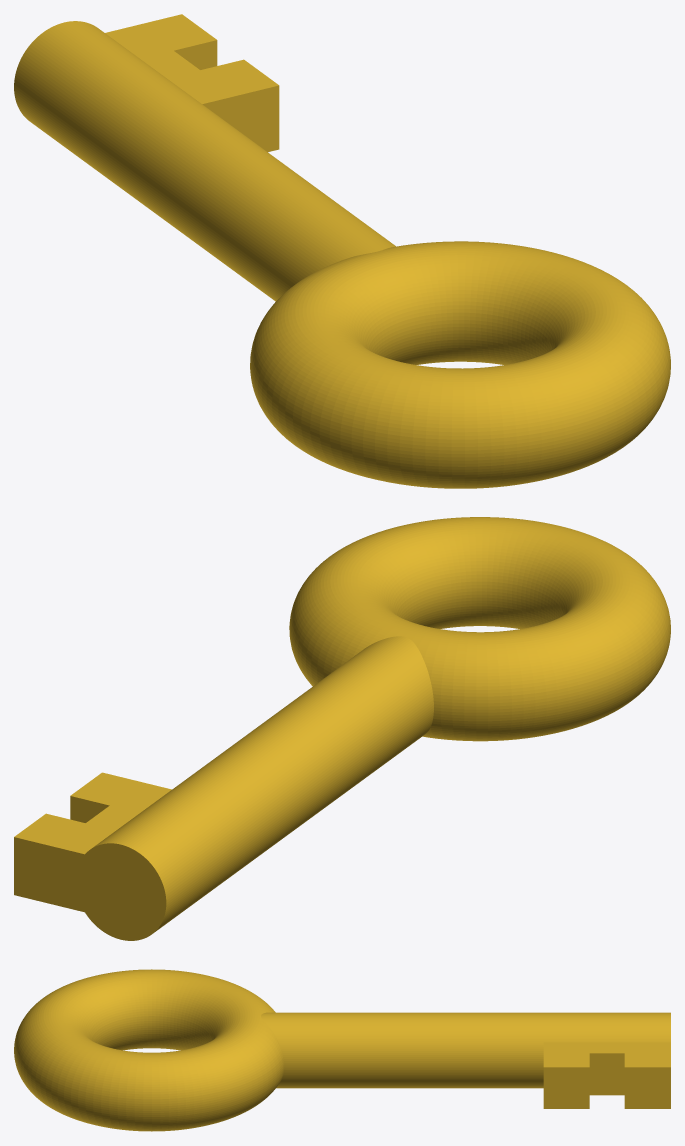
The model's file is gold_key.obj.
3 views of the same model, one above another, from view 1: azimuth 30°, elevation 25°; view 2: azimuth 150°, elevation 25°; view 3: azimuth 270°, elevation 25° (orthographic). The views are drawn at different scales.
Parts seen in each view (by area): view 1: Object.1, Object.2, Object.4, Object.3, Object.5; view 2: Object.1, Object.2, Object.3, Object.4, Object.5; view 3: Object.1, Object.2, Object.3, Object.4, Object.5.
Part boxes in pixels (x1,y1,x2,y2): Object.1: (250, 241, 670, 488); Object.2: (14, 21, 395, 301); Object.4: (167, 59, 279, 151); Object.3: (105, 14, 217, 69); Object.5: (140, 50, 199, 78); Object.1: (289, 517, 670, 741); Object.2: (75, 636, 433, 940); Object.3: (14, 813, 115, 912); Object.4: (70, 772, 171, 822); Object.5: (86, 805, 139, 830); Object.1: (14, 969, 284, 1131); Object.2: (261, 1012, 670, 1088); Object.3: (624, 1042, 670, 1108); Object.4: (543, 1042, 589, 1108); Object.5: (589, 1042, 624, 1095).
Size of the model in its own units: 70 by 20 by 167.
